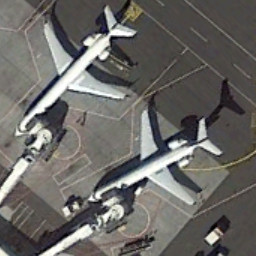Airplane: (11, 2, 141, 142), (86, 105, 232, 223)
